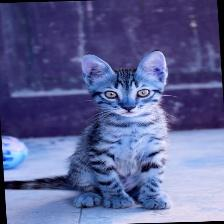kedo: (0, 50, 170, 210)
